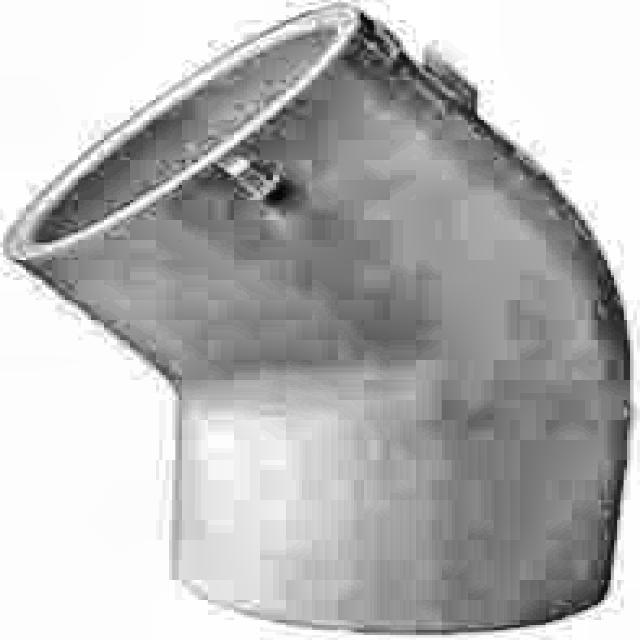ELBOW45: (3, 5, 640, 640)
